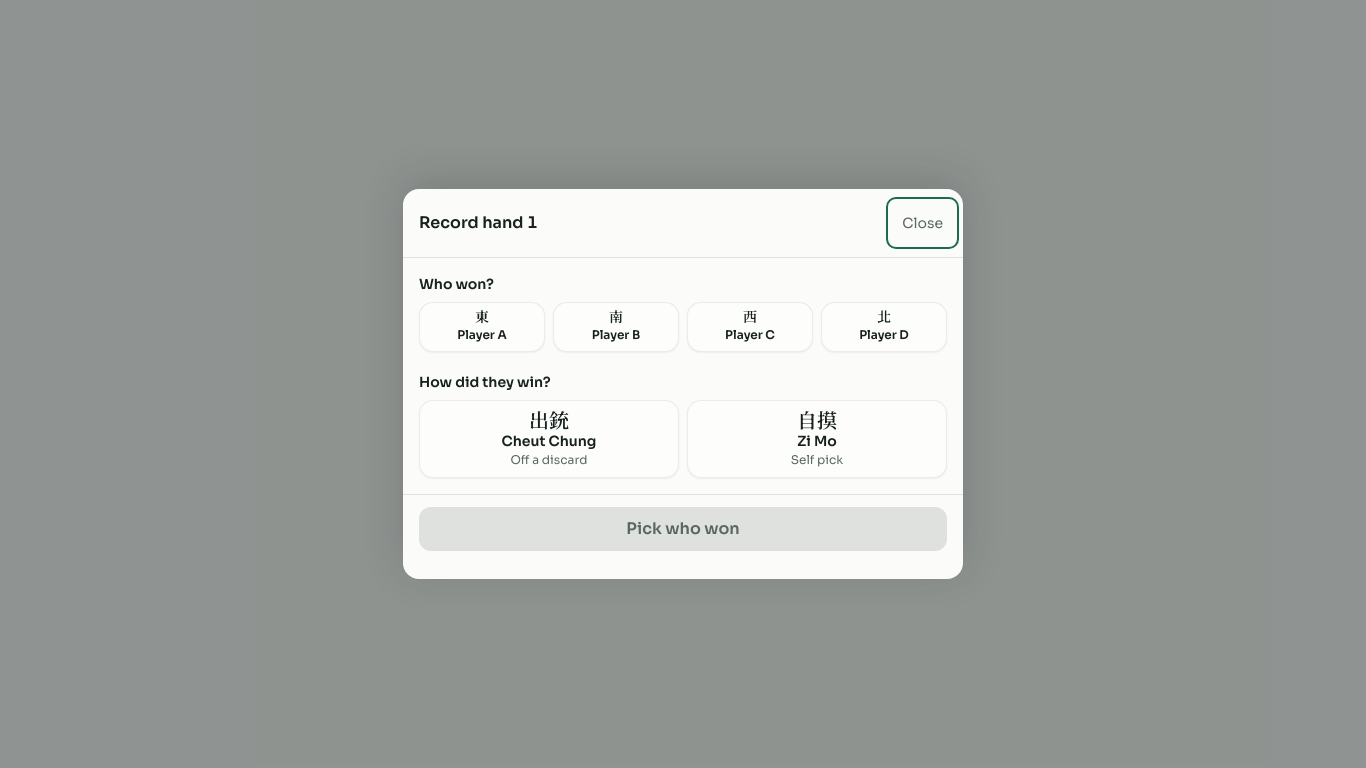
Scenario: recording a hand › says what is missing rather than leaving Save greyed out and silent
This screenshot has width=1366, height=768.
Expected: the button "Pick who won" is disabled, [419, 507, 947, 551]
Click the button "西 Player C" at (750, 327), box [687, 302, 813, 352]
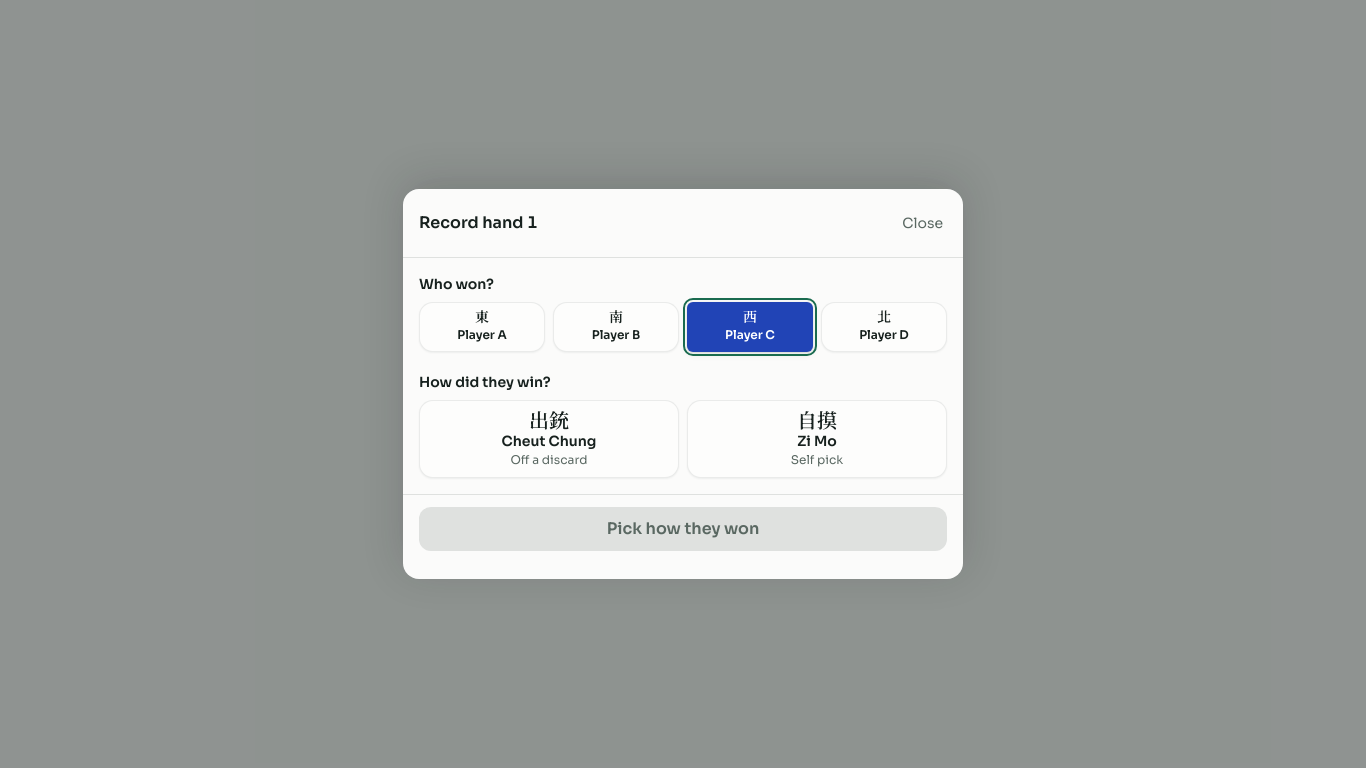
Expected: the button "Pick how they won" is disabled, [419, 507, 947, 551]
Click the button "出銃 Cheut Chung Off a discard" at (549, 439), box [419, 400, 679, 478]
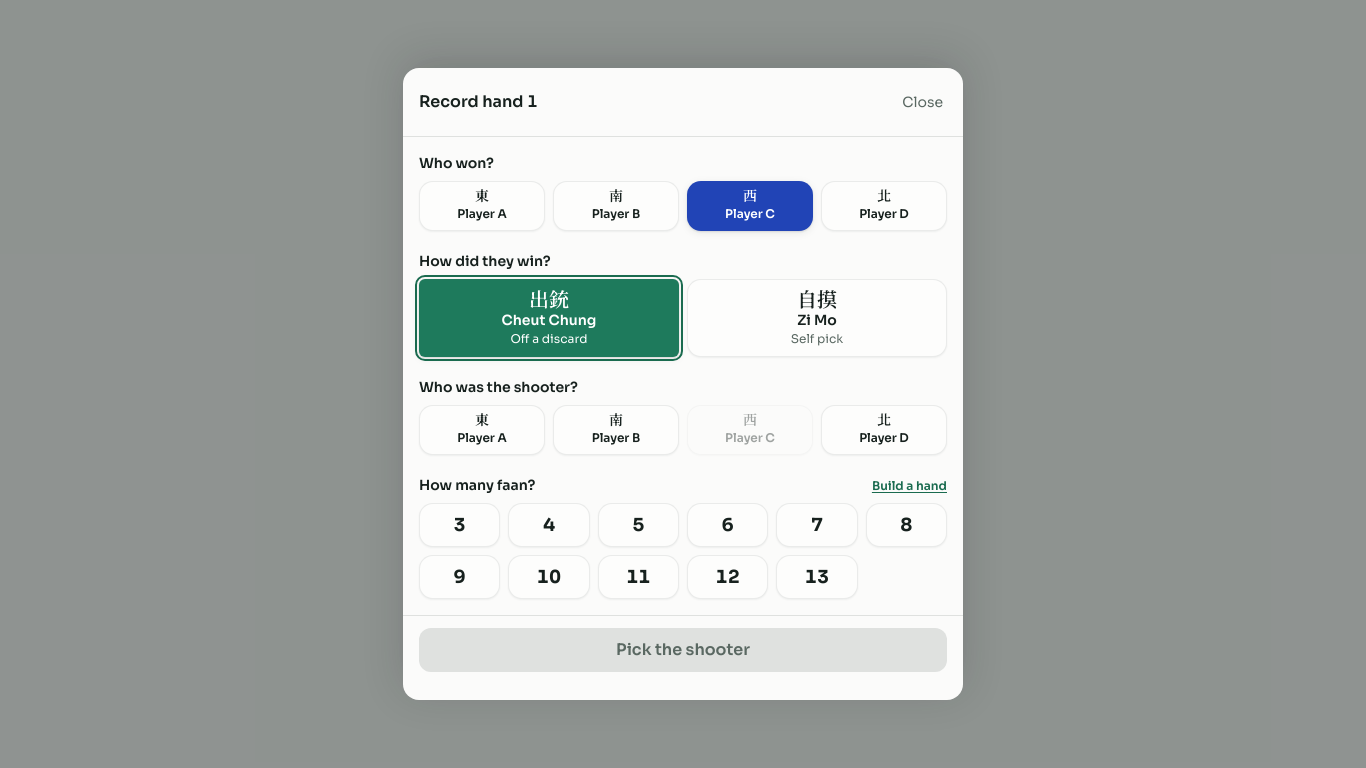
Expected: the button "Pick the shooter" is disabled, [419, 628, 947, 672]
Click the button "東 Player A" below "Who was the shooter?" at (482, 430), box [419, 405, 545, 455]
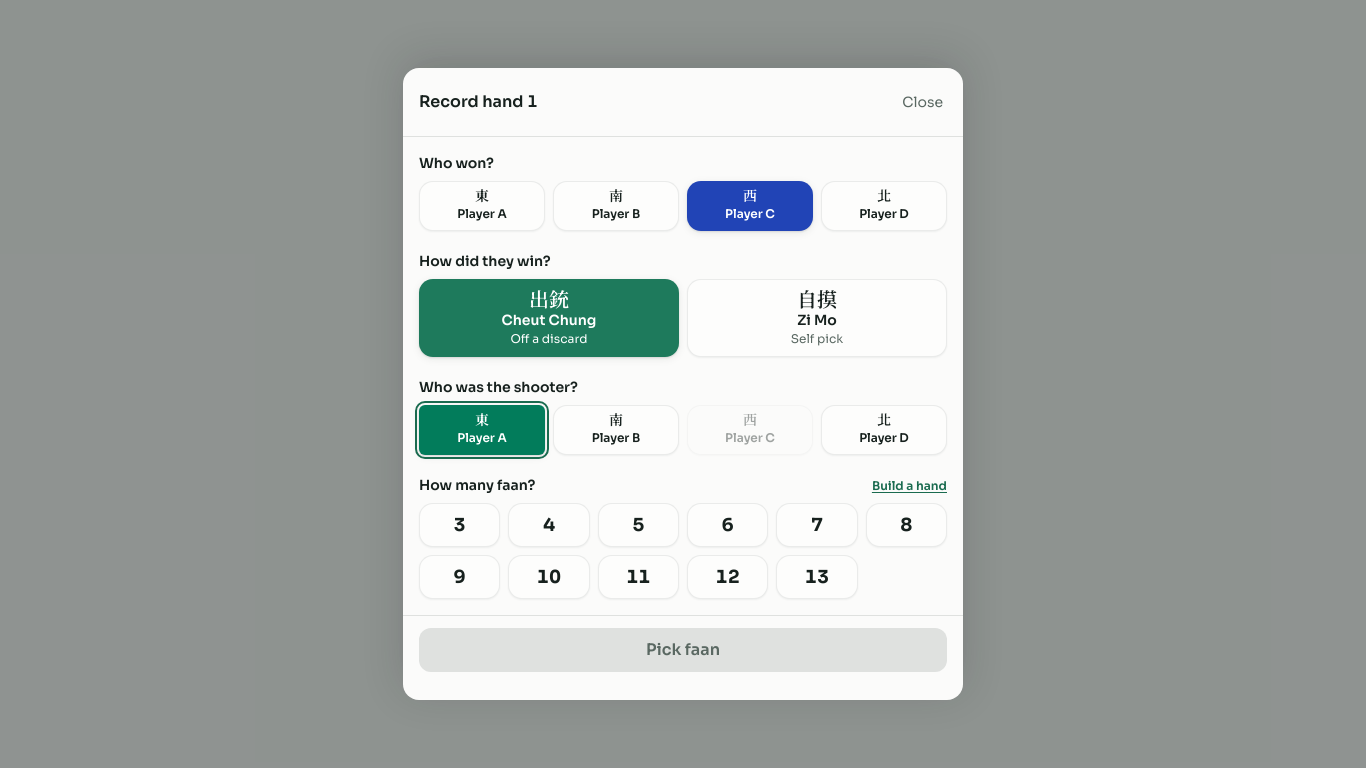
Expected: the button "Pick faan" is disabled, [419, 628, 947, 672]
Click the button "3" at (460, 525), box [419, 503, 500, 547]
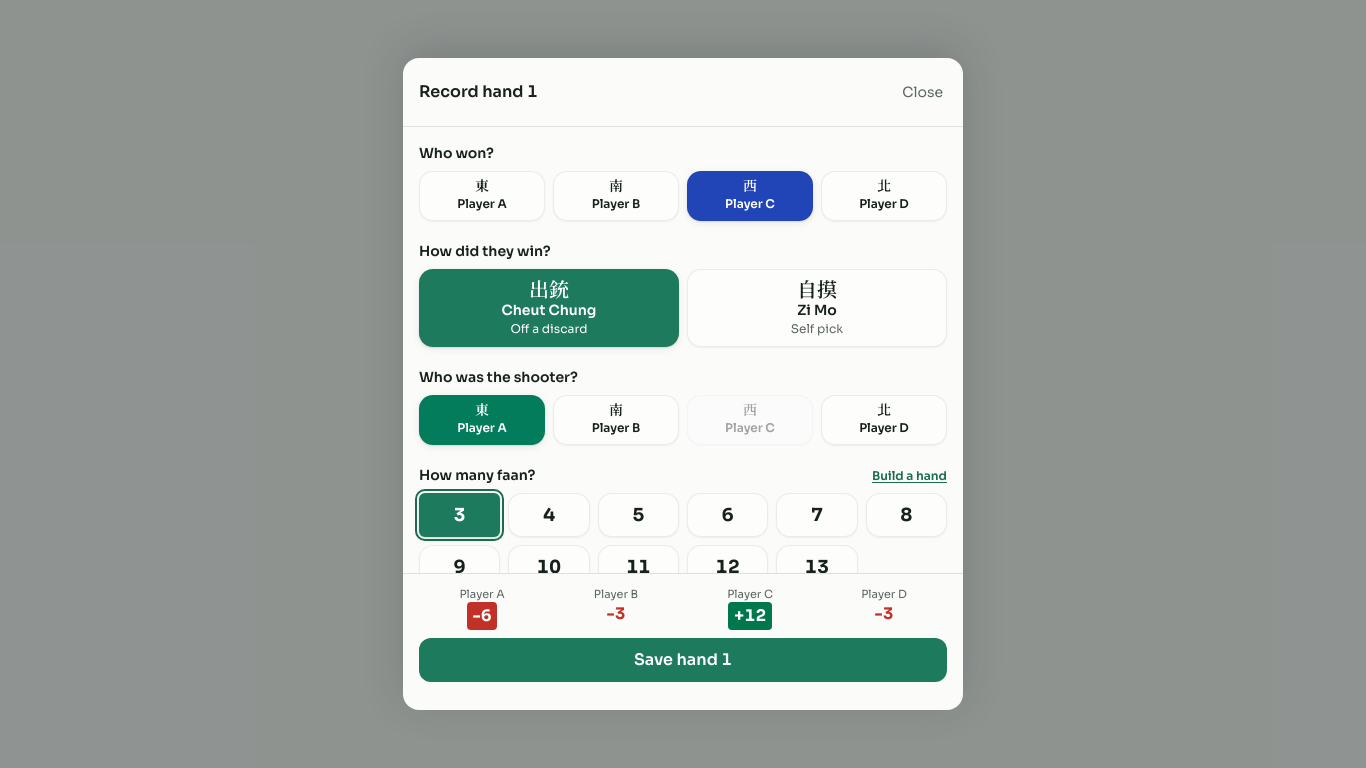
Expected: the button "Save hand 1" is enabled, [419, 638, 947, 682]
